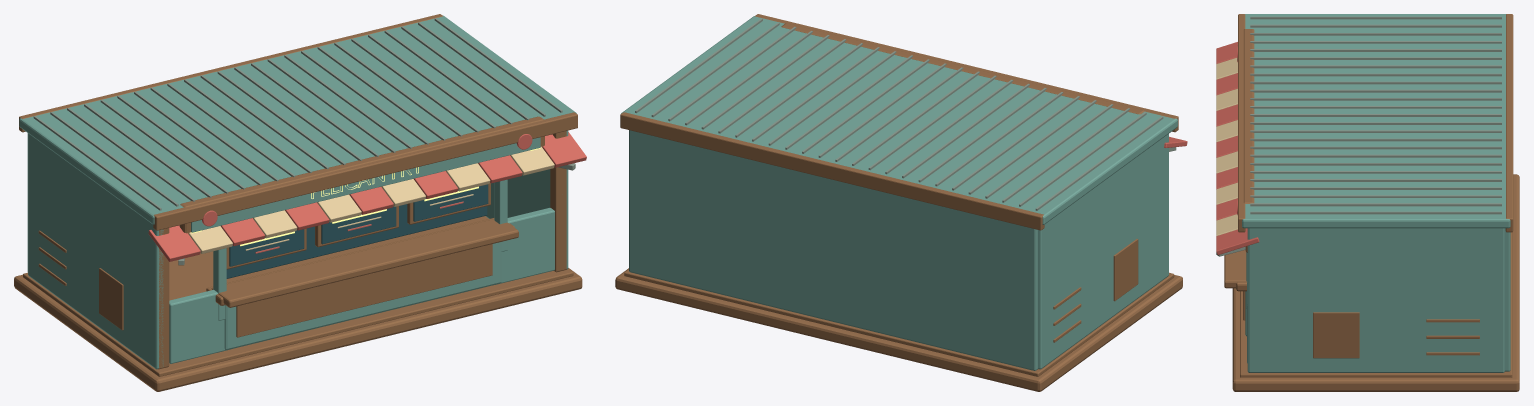
Rendered from pink-palm-concession.glb.
3 views of the same model, side by side, from view 1: azimuth 30°, elevation 25°; view 2: azimuth 150°, elevation 25°; view 3: azimuth 270°, elevation 25° (orthographic).
Visible parts, largest first — view 1: SM_PinkPalmConcession_LOD0; view 2: SM_PinkPalmConcession_LOD0; view 3: SM_PinkPalmConcession_LOD0.
Boxes of the visible parts, bbox=[...] form: SM_PinkPalmConcession_LOD0: bbox=[14, 14, 586, 391]; SM_PinkPalmConcession_LOD0: bbox=[615, 14, 1187, 391]; SM_PinkPalmConcession_LOD0: bbox=[1216, 14, 1519, 391].
Size of what is drawn, in the model's own units: 8.62 by 3.39 by 5.33.
